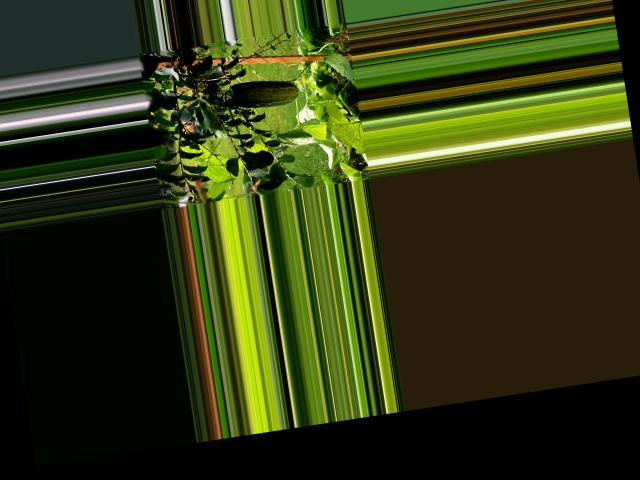cucumber: (221, 73, 300, 112)
